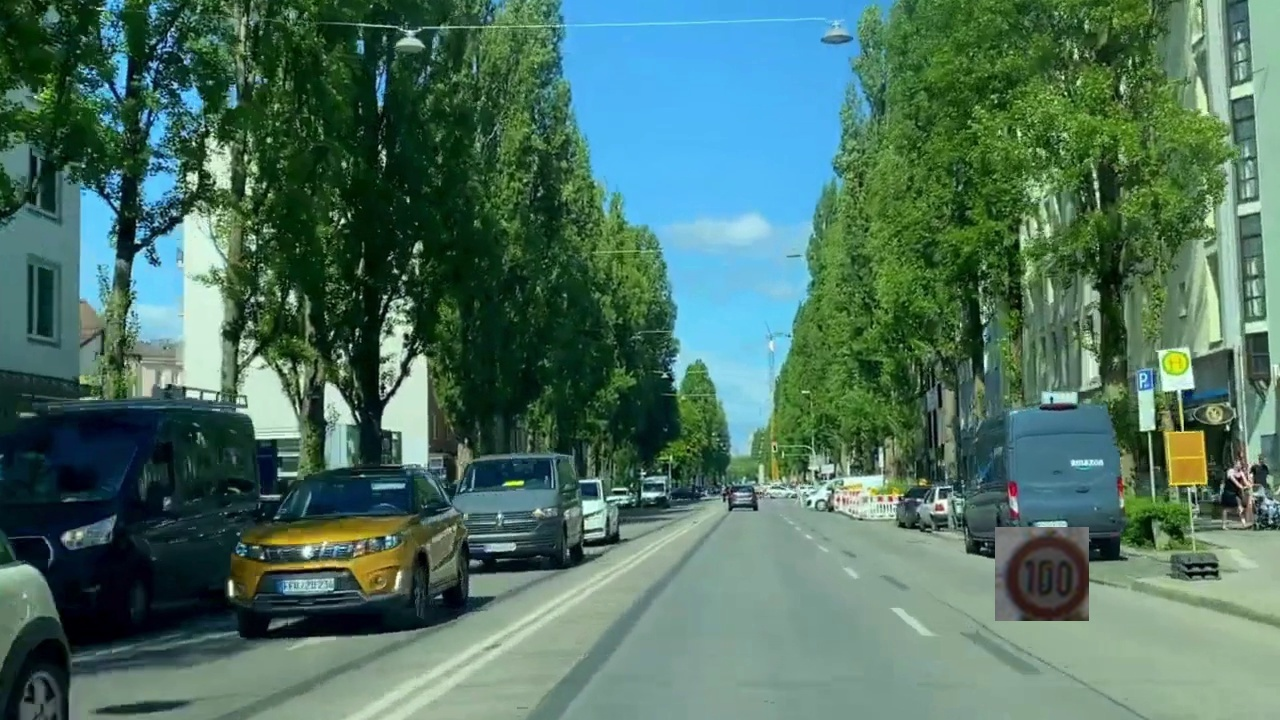Speed 100: (995, 527, 1089, 621)
